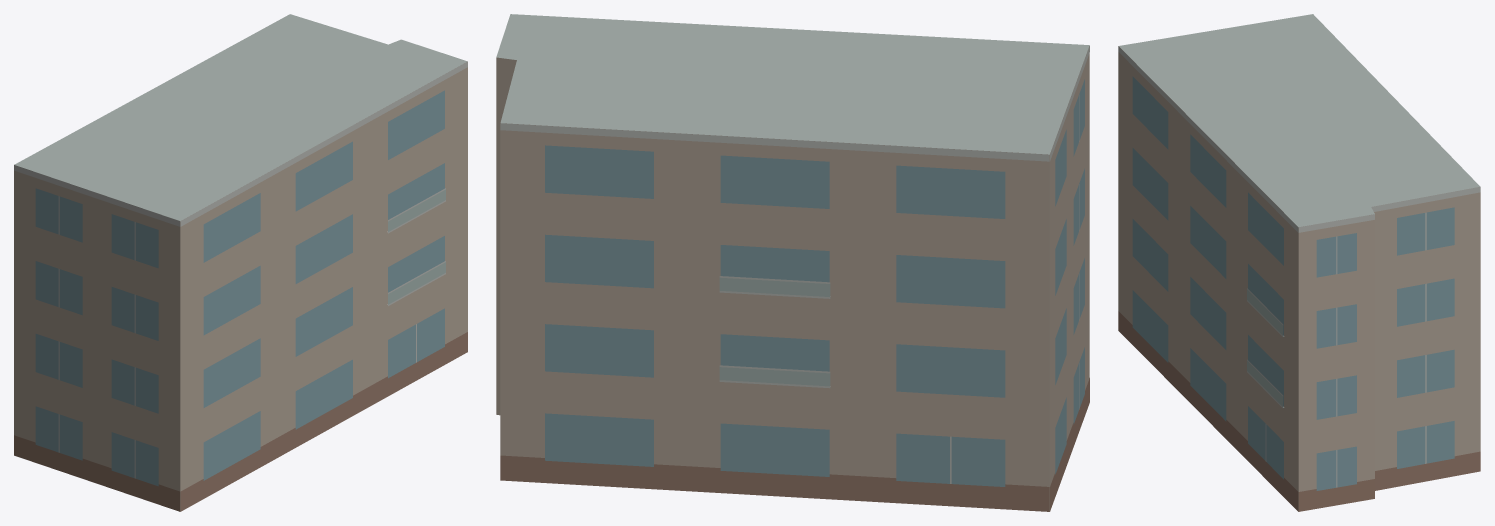
Rendered from survey-upis-32709545.glb.
3 renders of one model, left to right at view 1: azimuth 30°, elevation 25°; view 2: azimuth 150°, elevation 25°; view 3: azimuth 270°, elevation 25°, orthographic. The views are drawn at different scales.
Parts seen in each view (by area): view 1: survey-upis-32709545.tmp; view 2: survey-upis-32709545.tmp; view 3: survey-upis-32709545.tmp.
Boxes of the visible parts, box(x1,y1,x2,y2) form: survey-upis-32709545.tmp: box(14, 14, 467, 511); survey-upis-32709545.tmp: box(496, 14, 1089, 511); survey-upis-32709545.tmp: box(1118, 14, 1480, 511).
Size of the model in its own units: 19.77 by 12.3 by 14.19.
